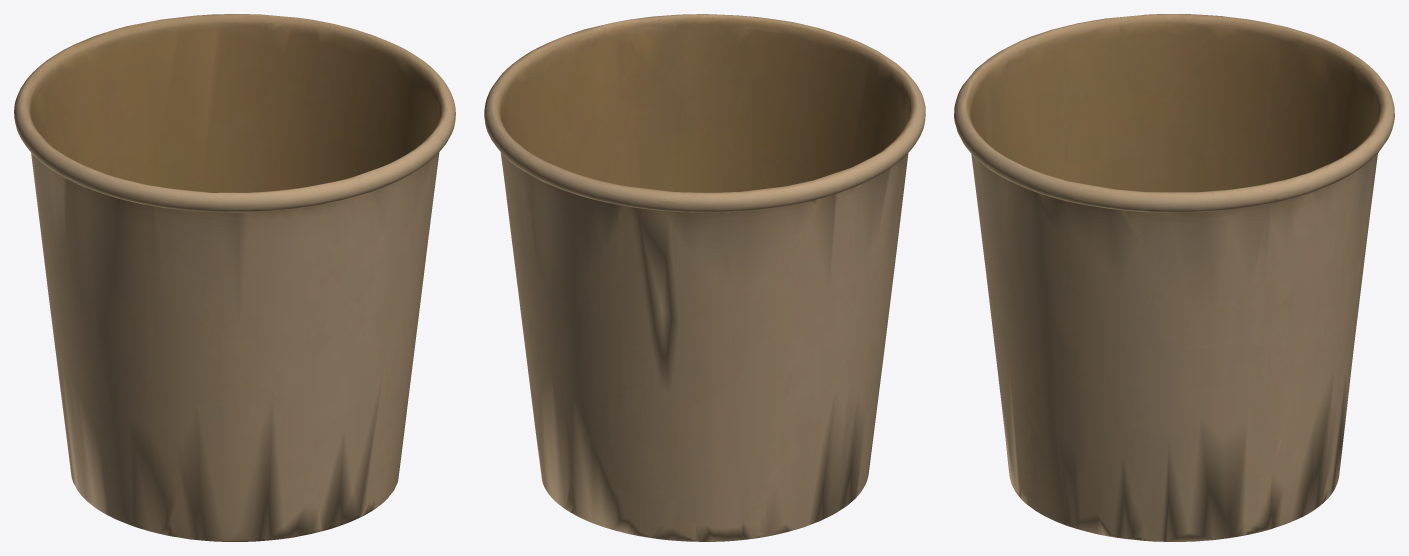
The model's file is fl-vase-kraft-bucket.glb.
The picture shows the model from 3 angles, left to right: view 1: azimuth 30°, elevation 25°; view 2: azimuth 150°, elevation 25°; view 3: azimuth 270°, elevation 25°; orthographic projection.
Visible parts, largest first — view 1: node_0; view 2: node_0; view 3: node_0.
Boxes of the visible parts, x1,y1,x2,y2 form: node_0: [14, 14, 455, 541]; node_0: [484, 14, 925, 541]; node_0: [954, 14, 1394, 541].
Size of the model in its own units: 0.8917 by 0.8246 by 0.8911.
Materials: 1 (1 with a texture image).
